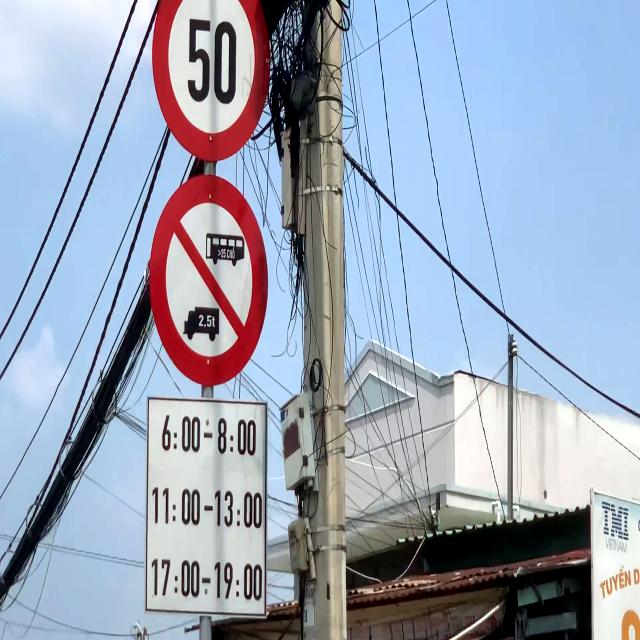P.127: (149, 0, 272, 164)
